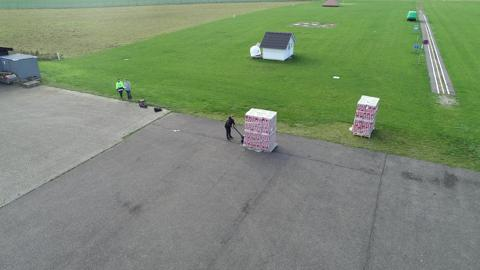RockwoolPallet: (246, 107, 279, 152)
